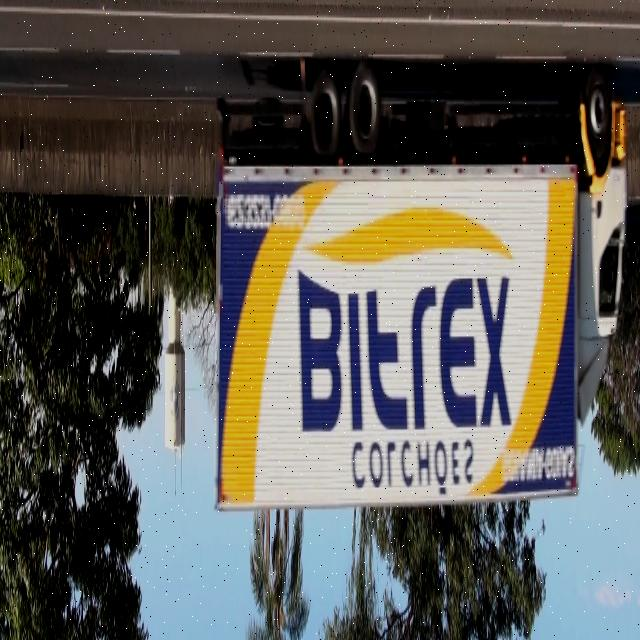-axle: (348, 54, 384, 160), (310, 61, 342, 166), (582, 60, 613, 167)
